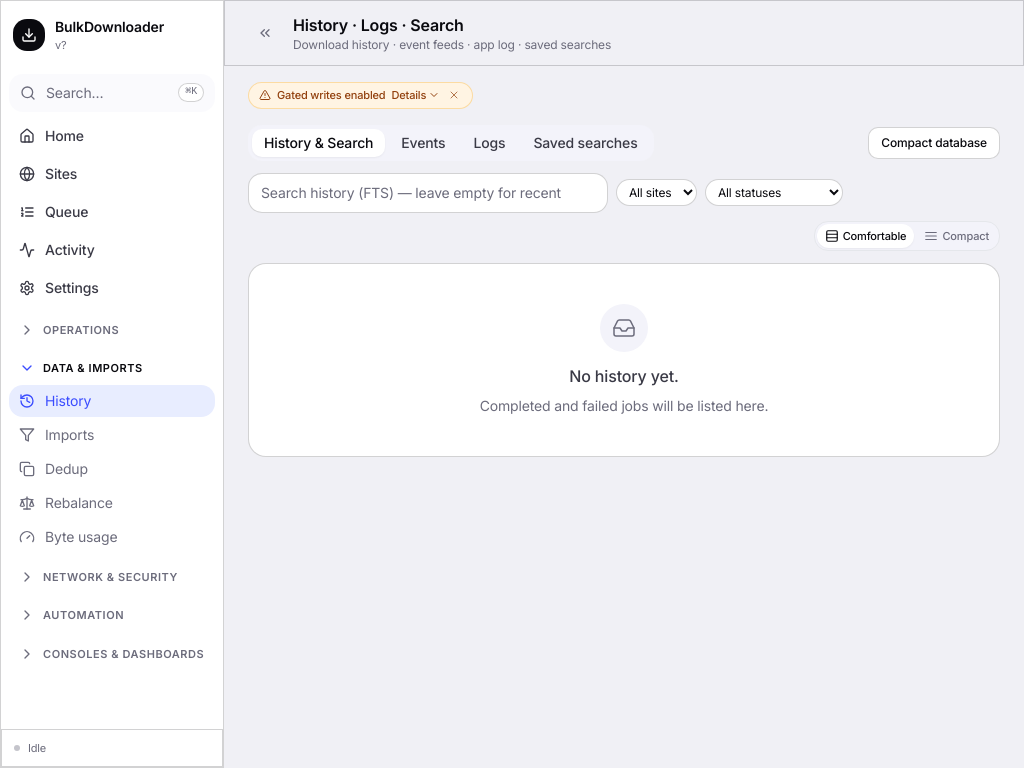
Test case: ssqh F2: HistorySearchTab error state › failed /api/search -> alert, not 'No matches.'
Expected: the text "No history yet." is shown, [569,364,679,388]
In the field with placeholder "Search history (FTS) — leave empty for recent": (428, 192) [248,172,608,212], type "zebra"
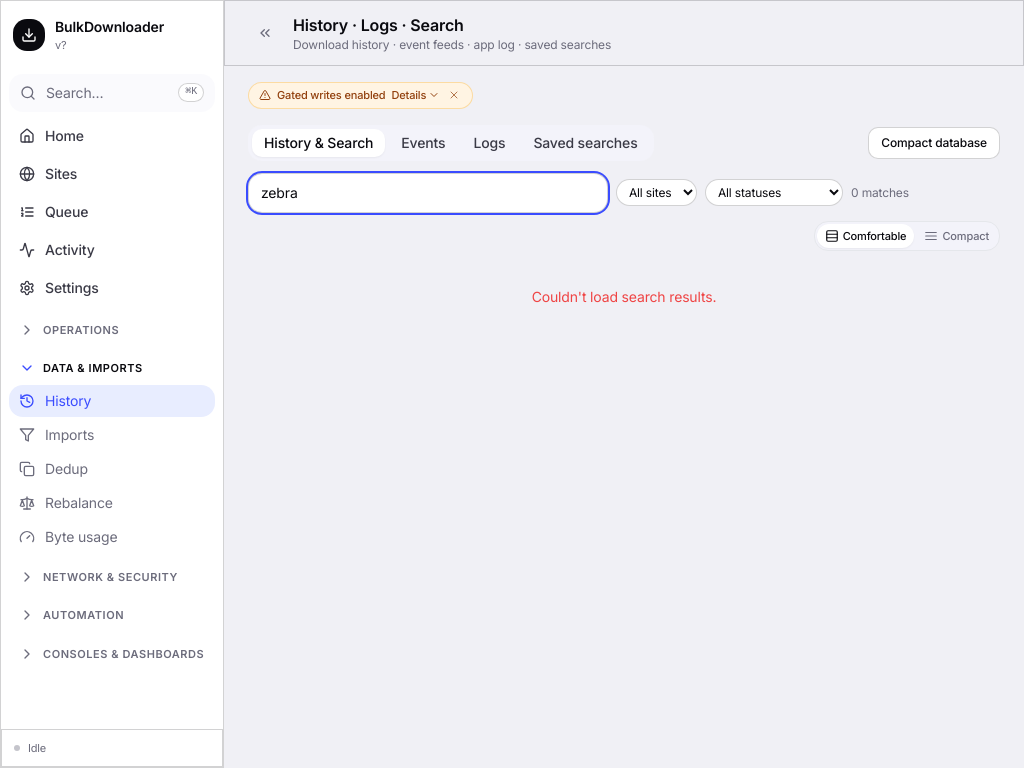
Expected: the text "Couldn't load search results." is shown, [532,288,716,305]
